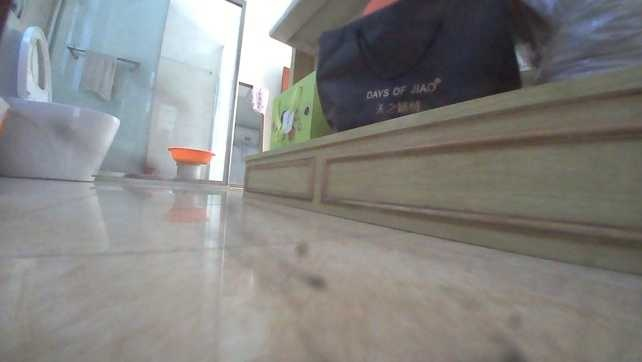toilet: (0, 24, 121, 180)
